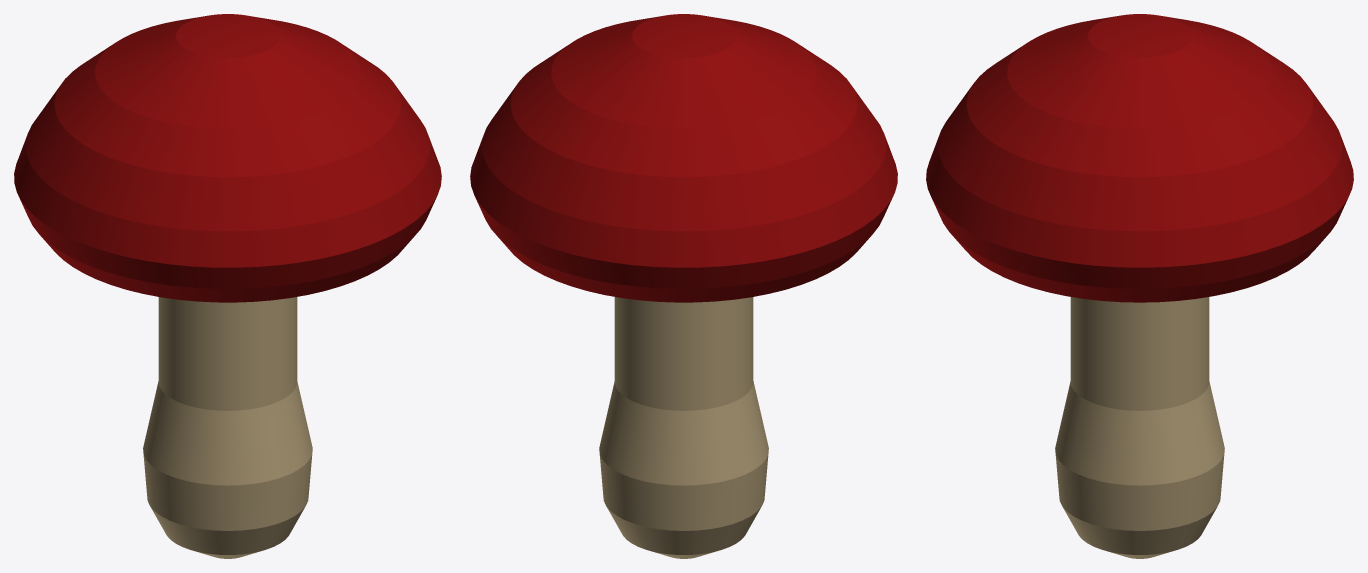
3 views of the same model, side by side, from view 1: azimuth 30°, elevation 25°; view 2: azimuth 150°, elevation 25°; view 3: azimuth 270°, elevation 25° (orthographic).
Parts seen in each view (by area): view 1: cap, stem; view 2: cap, stem; view 3: cap, stem.
Boxes of the visible parts, x1,y1,x2,y2 form: cap: (14,14,441,302); stem: (143,297,312,558); cap: (470,14,897,302); stem: (599,297,768,558); cap: (926,14,1353,302); stem: (1055,297,1224,558).
Bounding box in the file's own units: 0.074 × 0.1 × 0.074.
